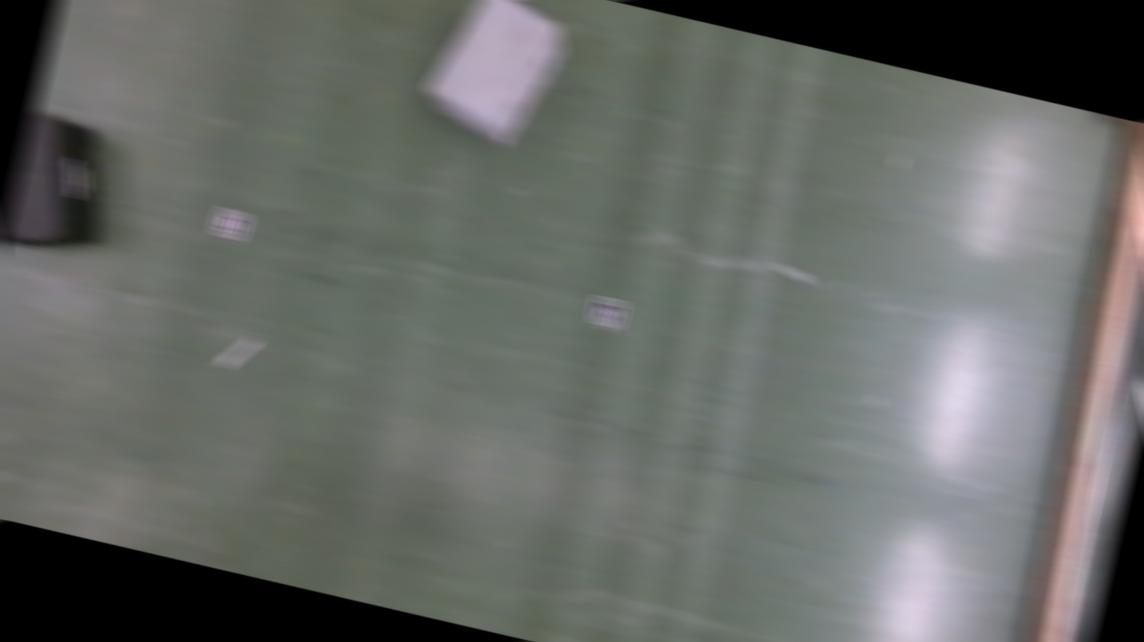probes: (220, 333, 259, 376), (768, 261, 814, 286)
rako: (414, 0, 574, 157), (0, 109, 124, 264)
